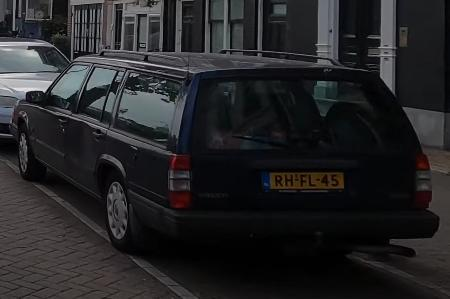license-plate: (260, 171, 349, 192)
